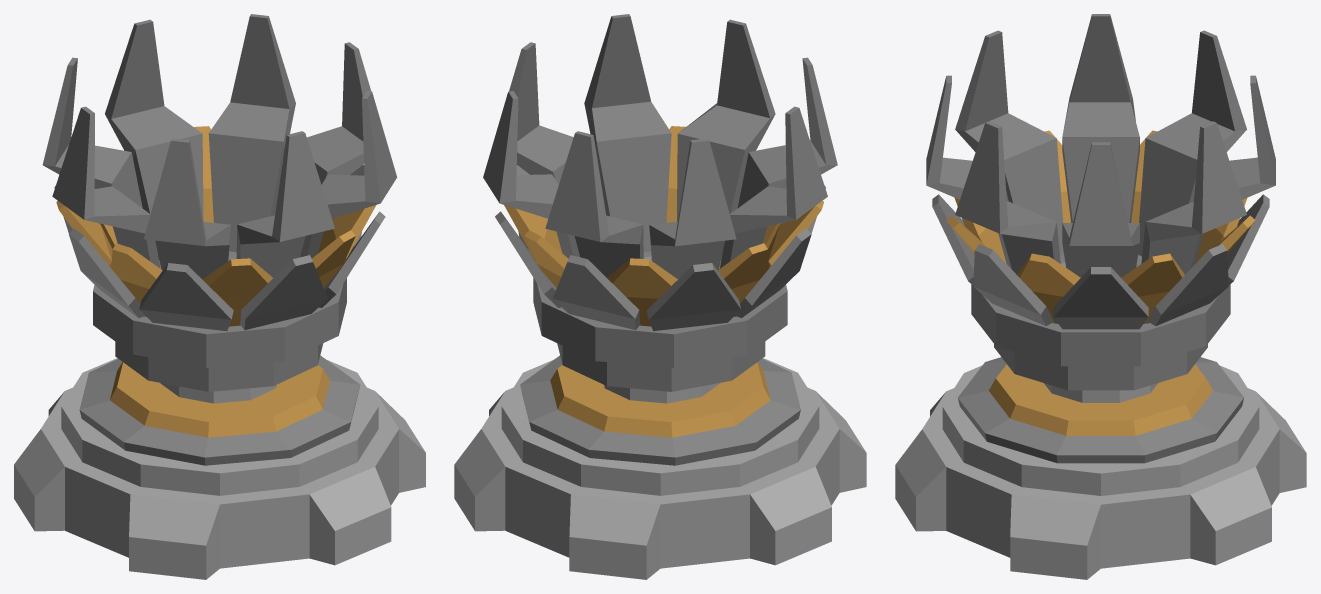
Rendered from Props_Teleporter_2.gltf.
3 views of the same model, side by side, from view 1: azimuth 30°, elevation 25°; view 2: azimuth 150°, elevation 25°; view 3: azimuth 270°, elevation 25° (orthographic).
Visible parts, largest first — view 1: Props_Teleporter_2; view 2: Props_Teleporter_2; view 3: Props_Teleporter_2.
Boxes of the visible parts, bbox=[...] form: Props_Teleporter_2: bbox=[14, 14, 425, 579]; Props_Teleporter_2: bbox=[454, 14, 866, 579]; Props_Teleporter_2: bbox=[895, 14, 1306, 579].
Bounding box in the file's own units: 1.21 × 1.34 × 1.21.
